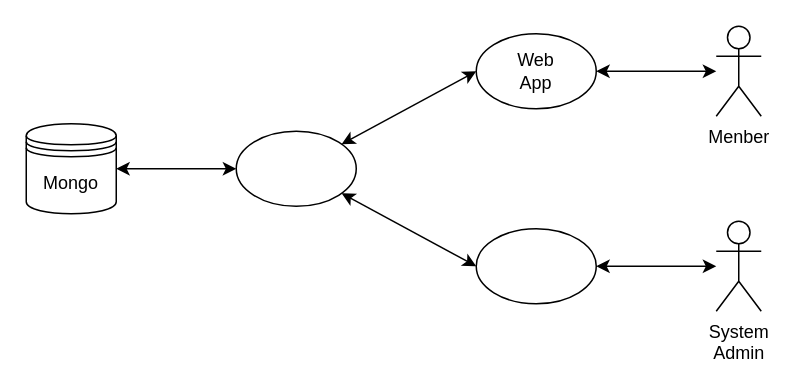
The diagram is 795 pixels wide and 392 high, and some of its shapes have lost their labels. The centre of each missing label's shape, as x and y in pixels:
"REST API" belongs at pixel 295 168.
"RFID Reader" belongs at pixel 535 265.
